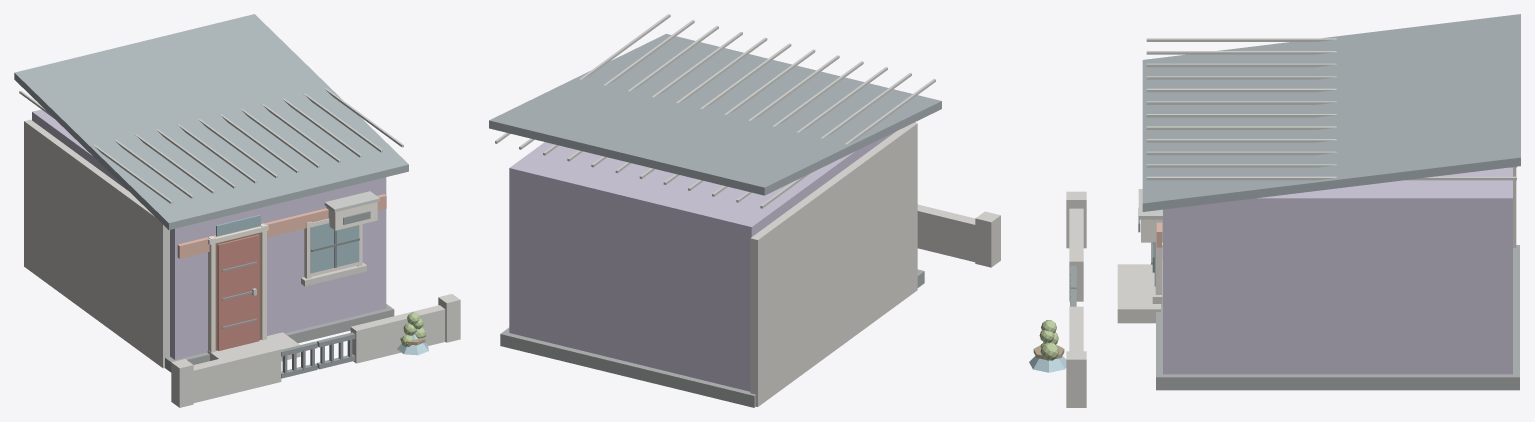
The model's file is 05_Compact_Rowhouse.fbx.
The picture shows the model from 3 angles, left to right: view 1: azimuth 30°, elevation 25°; view 2: azimuth 150°, elevation 25°; view 3: azimuth 270°, elevation 25°; orthographic projection. The views are drawn at different scales.
Visible parts, largest first — view 1: H05_004_CorrugatedLeanToRoof, H05_045_LeftPartyWall, H05_002_MainWalls, H05_018_SecurityDoor_DoorLeaf, H05_046_ShortFrontBoundary_Wall-1, H05_048_ShortFrontBoundary_Wall1, H05_027_NarrowBarredWindow_Pane, H05_001_FoundationSlab, H05_003_FrontAccentStripe, H05_047_ShortFrontBoundary_Post-1, H05_044_TinyStoop, H05_019_SecurityDoor_JambL (+8 smaller); view 2: H05_002_MainWalls, H05_004_CorrugatedLeanToRoof, H05_045_LeftPartyWall, H05_001_FoundationSlab, H05_046_ShortFrontBoundary_Wall-1, H05_047_ShortFrontBoundary_Post-1, H05_005_CorrugatedLeanToRoof_Rib01, H05_009_CorrugatedLeanToRoof_Rib05, H05_006_CorrugatedLeanToRoof_Rib02, H05_007_CorrugatedLeanToRoof_Rib03, H05_012_CorrugatedLeanToRoof_Rib08, H05_014_CorrugatedLeanToRoof_Rib10 (+6 smaller); view 3: H05_002_MainWalls, H05_004_CorrugatedLeanToRoof, H05_001_FoundationSlab, H05_044_TinyStoop, H05_016_CorrugatedLeanToRoof_Rib12, H05_046_ShortFrontBoundary_Wall-1, H05_049_ShortFrontBoundary_Post1, H05_009_CorrugatedLeanToRoof_Rib05, H05_007_CorrugatedLeanToRoof_Rib03, H05_014_CorrugatedLeanToRoof_Rib10, H05_015_CorrugatedLeanToRoof_Rib11, H05_005_CorrugatedLeanToRoof_Rib01 (+9 smaller).
Boxes of the visible parts, bbox=[...] form: H05_004_CorrugatedLeanToRoof: bbox=[14, 14, 408, 229]; H05_045_LeftPartyWall: bbox=[24, 119, 169, 368]; H05_002_MainWalls: bbox=[32, 109, 386, 359]; H05_018_SecurityDoor_DoorLeaf: bbox=[217, 234, 259, 350]; H05_046_ShortFrontBoundary_Wall-1: bbox=[193, 345, 281, 402]; H05_048_ShortFrontBoundary_Wall1: bbox=[350, 305, 445, 363]; H05_027_NarrowBarredWindow_Pane: bbox=[310, 223, 359, 273]; H05_001_FoundationSlab: bbox=[165, 304, 394, 372]; H05_003_FrontAccentStripe: bbox=[177, 194, 386, 258]; H05_047_ShortFrontBoundary_Post-1: bbox=[171, 359, 193, 407]; H05_044_TinyStoop: bbox=[207, 332, 300, 361]; H05_019_SecurityDoor_JambL: bbox=[208, 236, 215, 352]; H05_002_MainWalls: bbox=[509, 122, 915, 391]; H05_004_CorrugatedLeanToRoof: bbox=[489, 34, 941, 195]; H05_045_LeftPartyWall: bbox=[750, 122, 917, 406]; H05_001_FoundationSlab: bbox=[500, 269, 924, 407]; H05_046_ShortFrontBoundary_Wall-1: bbox=[917, 204, 975, 262]; H05_047_ShortFrontBoundary_Post-1: bbox=[975, 211, 1000, 267]; H05_005_CorrugatedLeanToRoof_Rib01: bbox=[760, 79, 935, 208]; H05_009_CorrugatedLeanToRoof_Rib05: bbox=[663, 55, 839, 184]; H05_006_CorrugatedLeanToRoof_Rib02: bbox=[736, 73, 911, 202]; H05_007_CorrugatedLeanToRoof_Rib03: bbox=[712, 67, 887, 196]; H05_012_CorrugatedLeanToRoof_Rib08: bbox=[591, 37, 767, 167]; H05_014_CorrugatedLeanToRoof_Rib10: bbox=[543, 26, 718, 155]; H05_002_MainWalls: bbox=[1163, 167, 1512, 374]; H05_004_CorrugatedLeanToRoof: bbox=[1142, 14, 1520, 211]; H05_001_FoundationSlab: bbox=[1156, 245, 1519, 390]; H05_044_TinyStoop: bbox=[1117, 264, 1160, 323]; H05_016_CorrugatedLeanToRoof_Rib12: bbox=[1146, 176, 1516, 180]; H05_046_ShortFrontBoundary_Wall-1: bbox=[1069, 208, 1083, 301]; H05_049_ShortFrontBoundary_Post1: bbox=[1066, 351, 1086, 407]; H05_009_CorrugatedLeanToRoof_Rib05: bbox=[1146, 88, 1336, 92]; H05_007_CorrugatedLeanToRoof_Rib03: bbox=[1146, 63, 1336, 67]; H05_014_CorrugatedLeanToRoof_Rib10: bbox=[1146, 151, 1336, 155]; H05_015_CorrugatedLeanToRoof_Rib11: bbox=[1146, 164, 1516, 167]; H05_005_CorrugatedLeanToRoof_Rib01: bbox=[1146, 38, 1336, 41].
Size of the model in its own units: 505 by 334 by 625.
